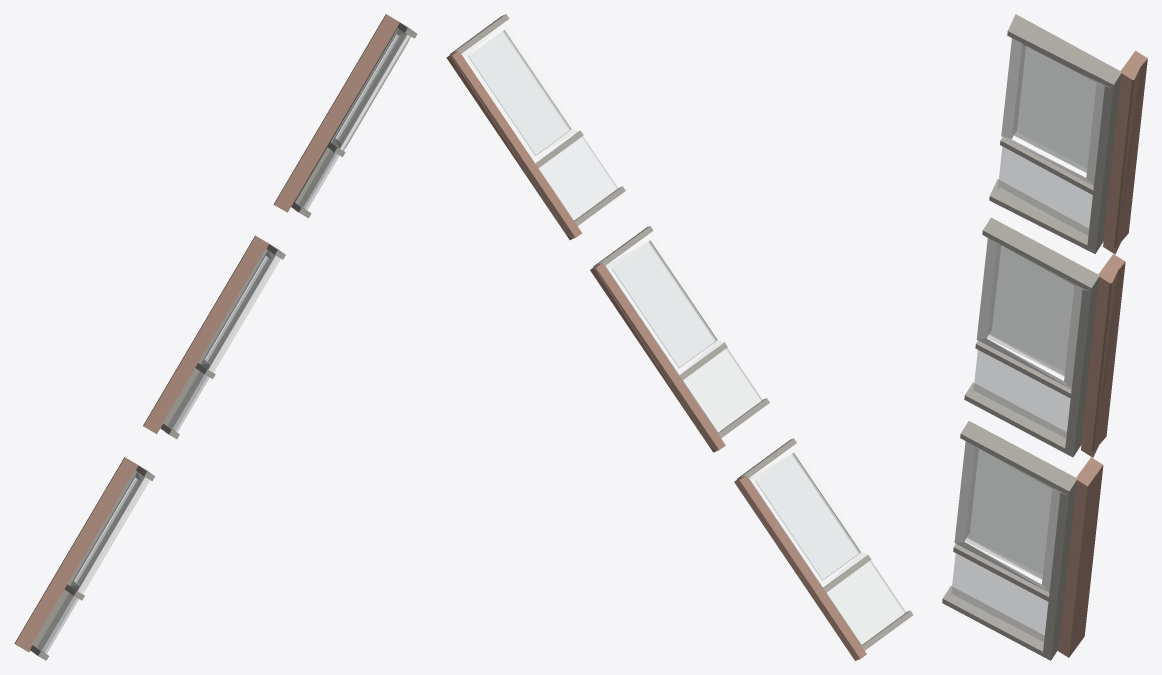
The picture shows the model from 3 angles, left to right: view 1: azimuth 30°, elevation 25°; view 2: azimuth 150°, elevation 25°; view 3: azimuth 270°, elevation 25°; orthographic projection. The views are drawn at different scales.
Visible parts, largest first — view 1: mesh; view 2: mesh; view 3: mesh.
Part boxes in pixels (left/top/right/bottom): mesh: left=14, top=14, right=417, bottom=660; mesh: left=446, top=14, right=913, bottom=660; mesh: left=942, top=14, right=1147, bottom=660.
Size of the model in its own units: 5.61 by 7.03 by 1.38.
